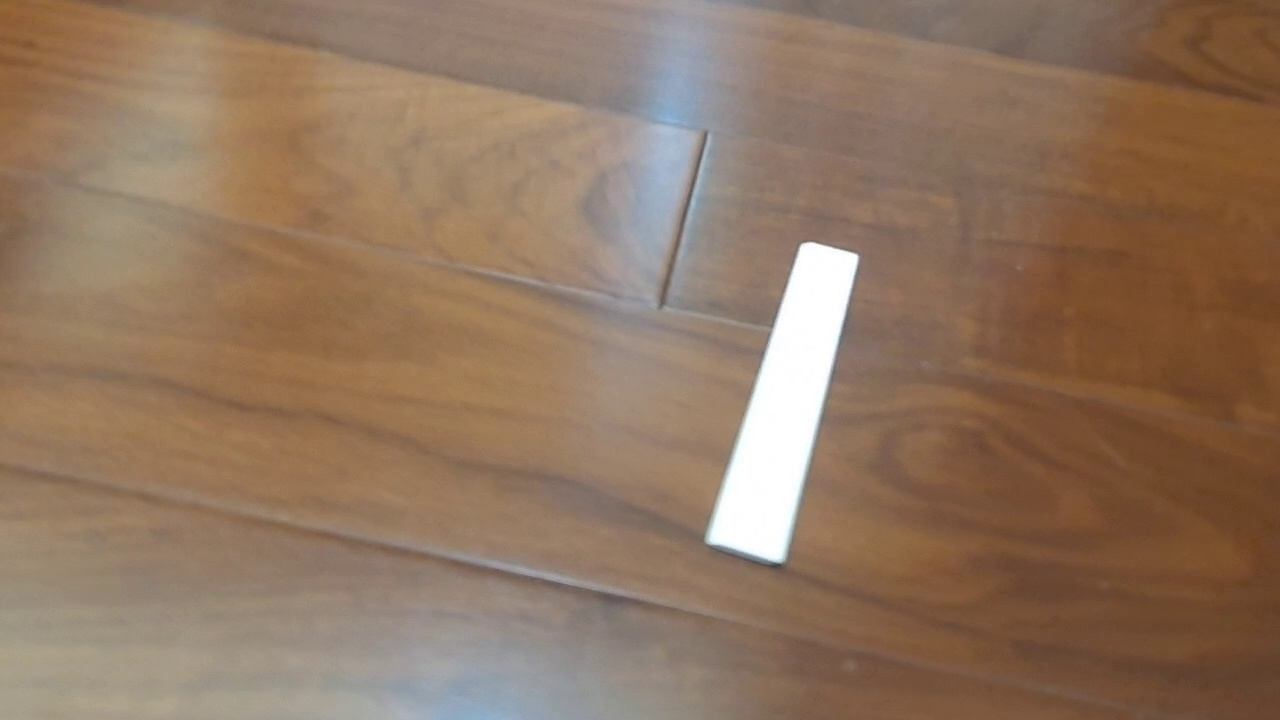ruler: (703, 241, 860, 568)
